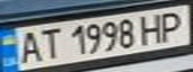1: (63, 21, 87, 56)
8: (115, 16, 139, 48)
9: (81, 20, 106, 55), (100, 18, 121, 52)
A: (12, 28, 45, 64)
H: (136, 11, 169, 45)
P: (154, 8, 190, 43)
T: (33, 25, 63, 61)
